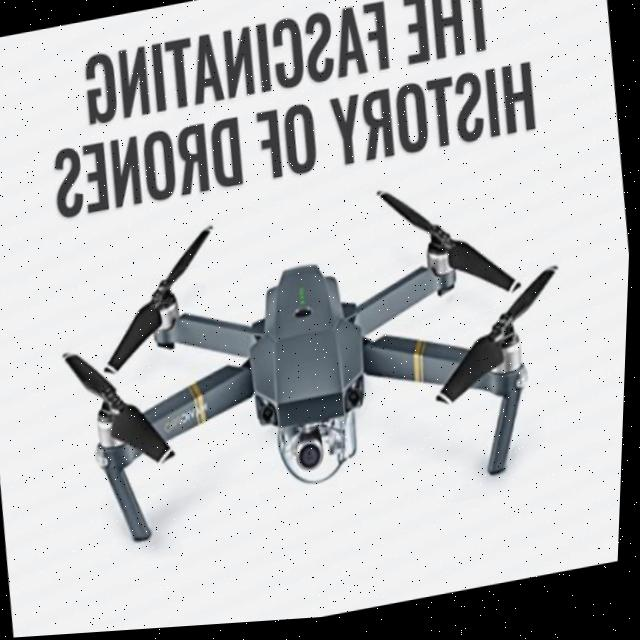drones: (43, 138, 619, 585)
